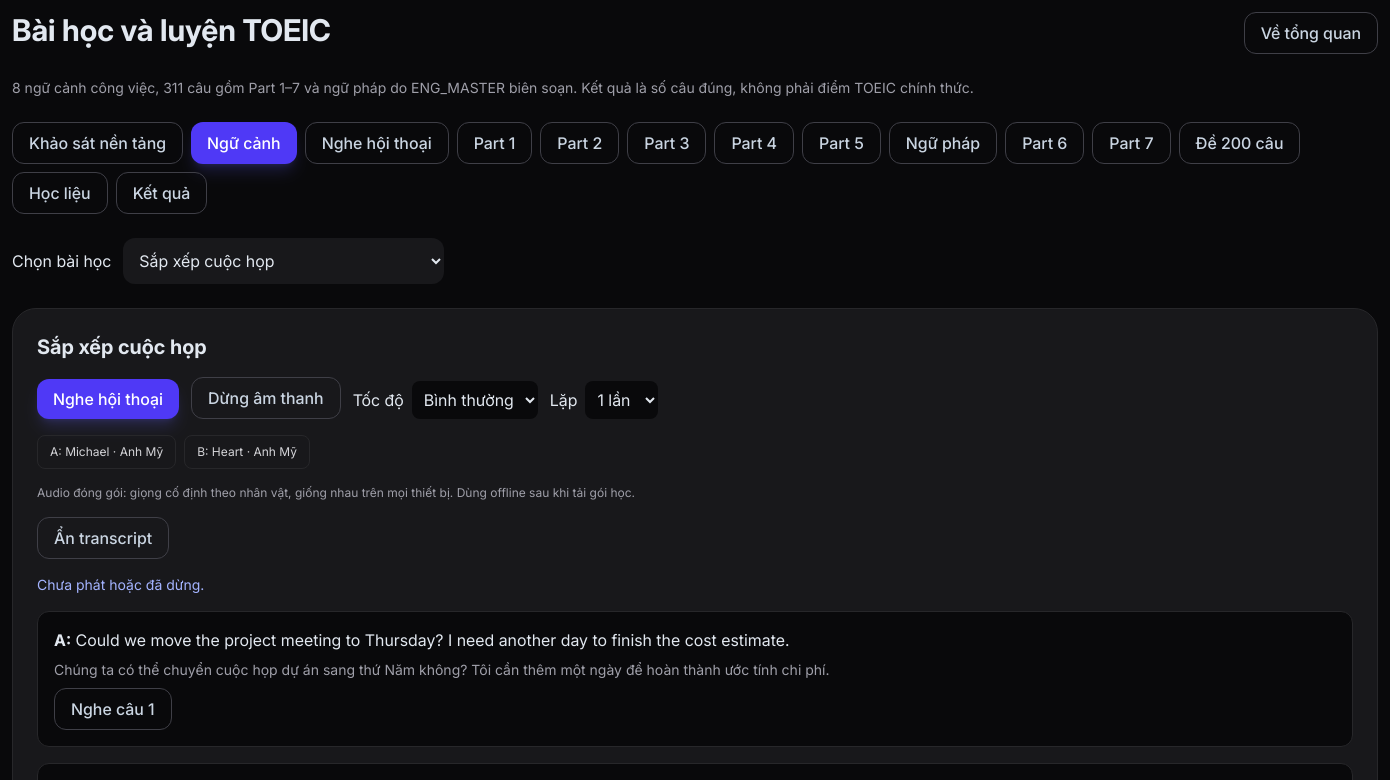
Test: does not let a filter from Part 5 silently prevent a grammar lesson from starting
Click the button "Part 5". click: point(841, 143)
box: [802,122,881,164]
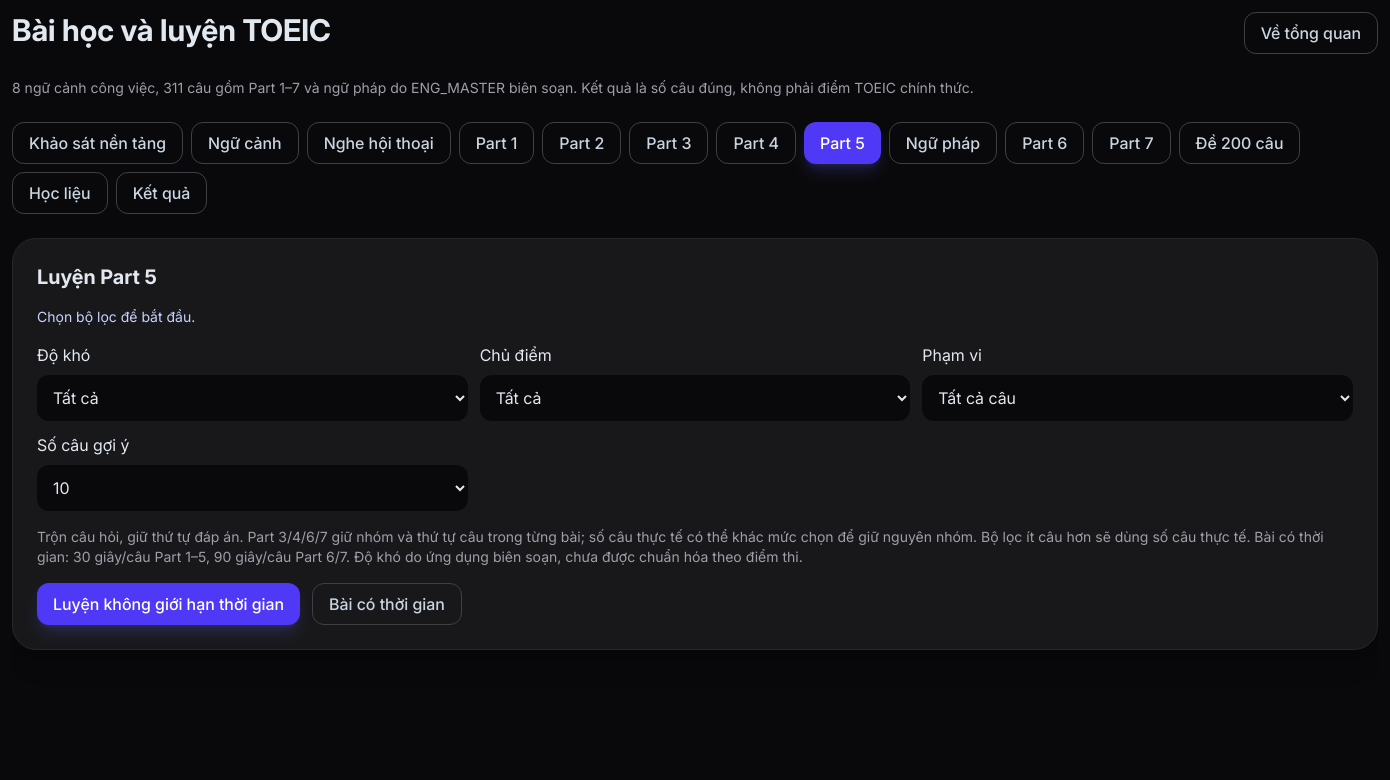
Select "Cần ôn lại" in the dropdown named "Phạm vi bài luyện". click: point(1138, 398)
box: [922,375,1353,421]
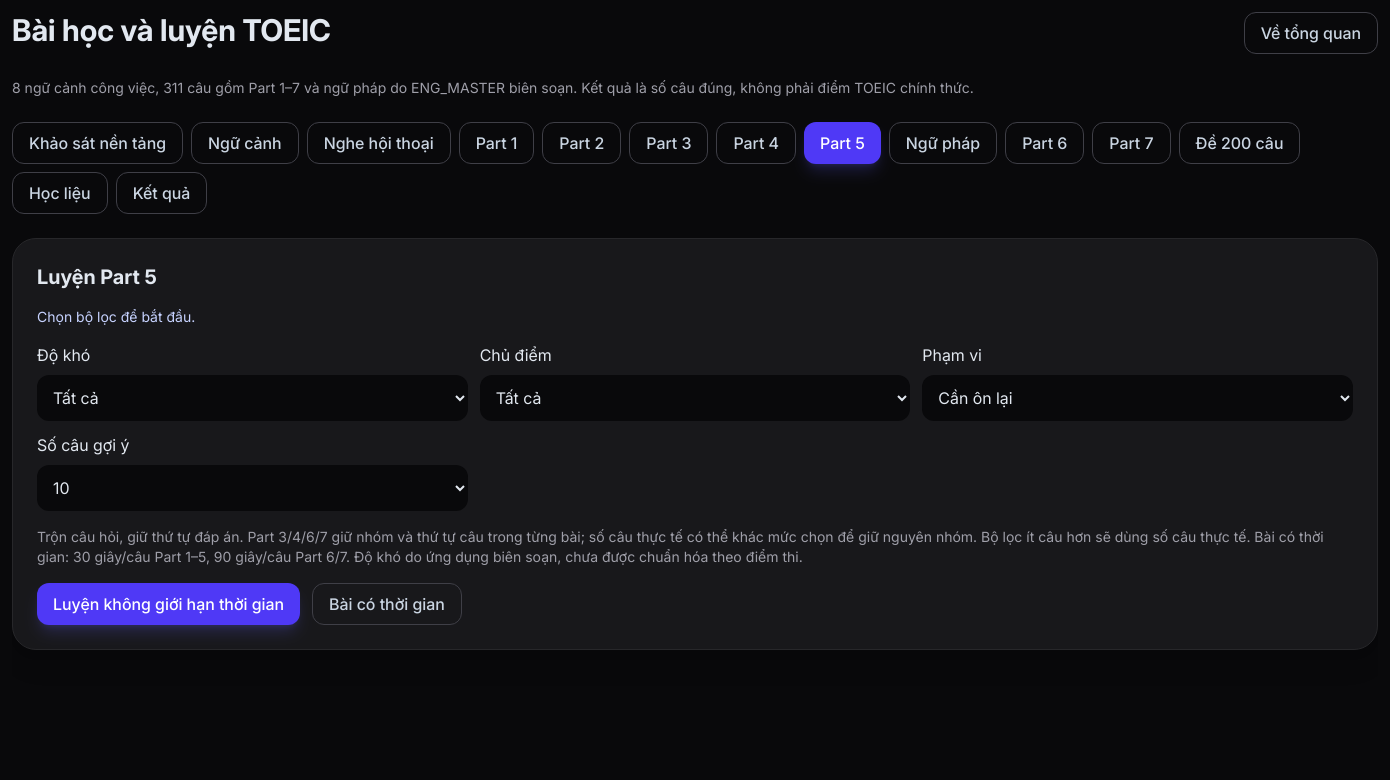
Click the button "Ngữ pháp". click: point(943, 143)
box: [889,122,997,164]
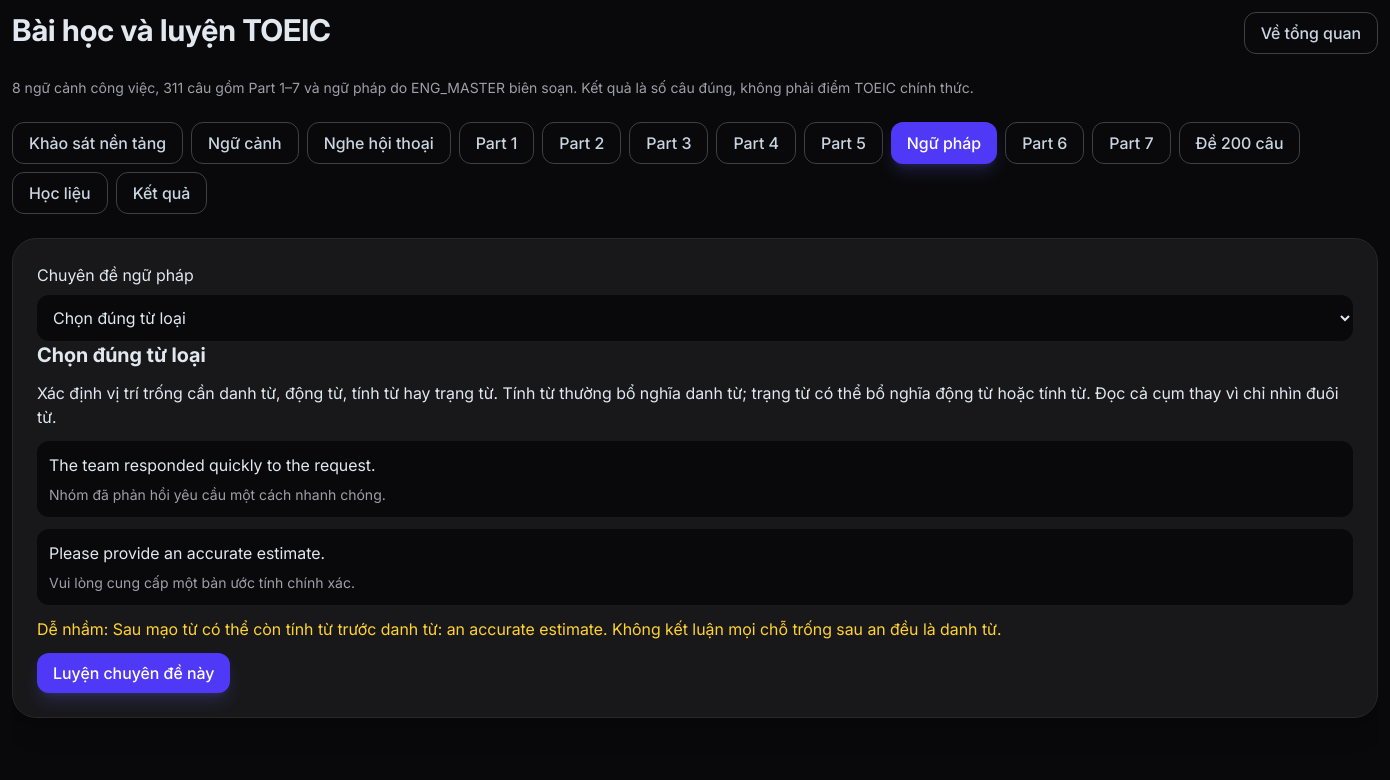
Click the button "Luyện chuyên đề này". click: point(134, 673)
box: [37,653,230,693]
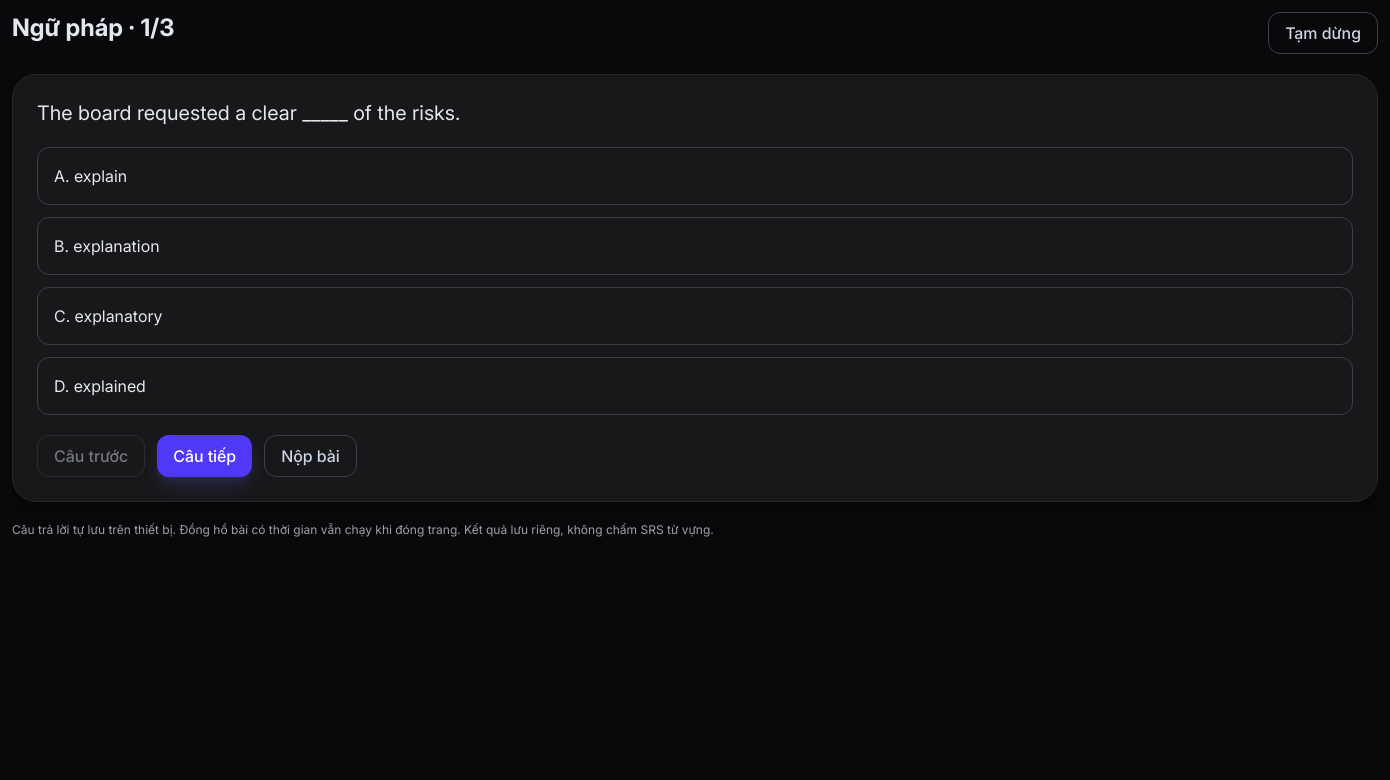
Now the heading "Ngữ pháp · 1/3" is shown, box [12,12,174,54]
